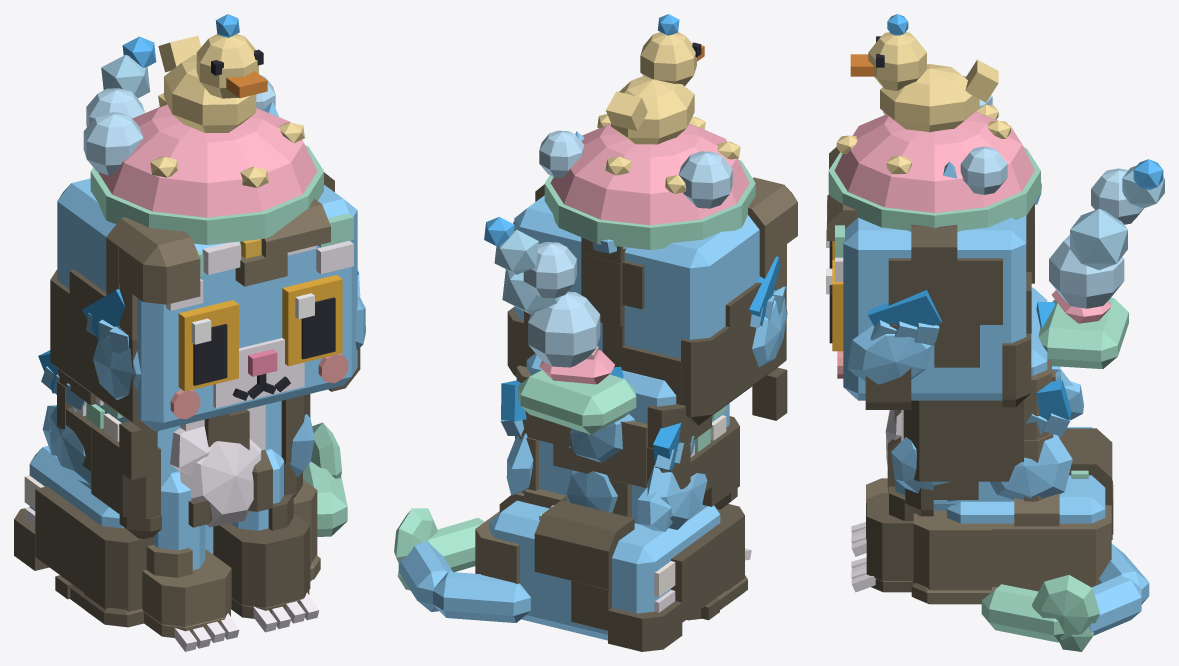
Rendered from CleanACat_Cat_Bathtile_Dirty_Sit.fbx.
3 renders of one model, left to right at view 1: azimuth 30°, elevation 25°; view 2: azimuth 150°, elevation 25°; view 3: azimuth 270°, elevation 25°, orthographic. The views are drawn at different scales.
Parts seen in each view (by area): view 1: CleanACat_Cat_Bathtile_Dirty_Sit_Prop, CleanACat_Cat_Bathtile_Dirty_Sit_Head, CleanACat_Cat_Bathtile_Dirty_Sit_Mud17, CleanACat_Cat_Bathtile_Dirty_Sit_Mud01, CleanACat_Cat_Bathtile_Dirty_Sit_Mud06, CleanACat_Cat_Bathtile_Dirty_Sit_Body, CleanACat_Cat_Bathtile_Dirty_Sit_Mud18, CleanACat_Cat_Bathtile_Dirty_Sit_Mud16, CleanACat_Cat_Bathtile_Dirty_Sit_Fluff04, CleanACat_Cat_Bathtile_Dirty_Sit_Mud10, CleanACat_Cat_Bathtile_Dirty_Sit_Mud14, CleanACat_Cat_Bathtile_Dirty_Sit_Eye2 (+21 smaller); view 2: CleanACat_Cat_Bathtile_Dirty_Sit_Prop, CleanACat_Cat_Bathtile_Dirty_Sit_Body, CleanACat_Cat_Bathtile_Dirty_Sit_Head, CleanACat_Cat_Bathtile_Dirty_Sit_Mud01, CleanACat_Cat_Bathtile_Dirty_Sit_Prop2, CleanACat_Cat_Bathtile_Dirty_Sit_Mud13, CleanACat_Cat_Bathtile_Dirty_Sit_Tail, CleanACat_Cat_Bathtile_Dirty_Sit_Mud14, CleanACat_Cat_Bathtile_Dirty_Sit_Prop2_Glass, CleanACat_Cat_Bathtile_Dirty_Sit_Mud09, CleanACat_Cat_Bathtile_Dirty_Sit_Mud04, CleanACat_Cat_Bathtile_Dirty_Sit_Prop_Glass (+16 smaller); view 3: CleanACat_Cat_Bathtile_Dirty_Sit_Prop, CleanACat_Cat_Bathtile_Dirty_Sit_Head, CleanACat_Cat_Bathtile_Dirty_Sit_Mud02, CleanACat_Cat_Bathtile_Dirty_Sit_Mud08, CleanACat_Cat_Bathtile_Dirty_Sit_Prop2, CleanACat_Cat_Bathtile_Dirty_Sit_Mud12, CleanACat_Cat_Bathtile_Dirty_Sit_Mud15, CleanACat_Cat_Bathtile_Dirty_Sit_Tail, CleanACat_Cat_Bathtile_Dirty_Sit_Body, CleanACat_Cat_Bathtile_Dirty_Sit_Prop2_Glass, CleanACat_Cat_Bathtile_Dirty_Sit_Mud17, CleanACat_Cat_Bathtile_Dirty_Sit_Fluff09 (+14 smaller).
Part boxes in pixels (x1=…): CleanACat_Cat_Bathtile_Dirty_Sit_Prop: x1=90, y1=34, x2=323, y2=244; CleanACat_Cat_Bathtile_Dirty_Sit_Head: x1=57, y1=178, x2=357, y2=431; CleanACat_Cat_Bathtile_Dirty_Sit_Mud17: x1=213, y1=493, x2=310, y2=618; CleanACat_Cat_Bathtile_Dirty_Sit_Mud01: x1=50, y1=269, x2=158, y2=480; CleanACat_Cat_Bathtile_Dirty_Sit_Mud06: x1=106, y1=217, x2=200, y2=339; CleanACat_Cat_Bathtile_Dirty_Sit_Body: x1=24, y1=397, x2=281, y2=554; CleanACat_Cat_Bathtile_Dirty_Sit_Mud18: x1=142, y1=544, x2=231, y2=637; CleanACat_Cat_Bathtile_Dirty_Sit_Mud16: x1=70, y1=522, x2=153, y2=627; CleanACat_Cat_Bathtile_Dirty_Sit_Fluff04: x1=170, y1=426, x2=261, y2=527; CleanACat_Cat_Bathtile_Dirty_Sit_Mud10: x1=66, y1=408, x2=161, y2=538; CleanACat_Cat_Bathtile_Dirty_Sit_Mud14: x1=14, y1=486, x2=96, y2=599; CleanACat_Cat_Bathtile_Dirty_Sit_Eye2: x1=178, y1=300, x2=238, y2=391; CleanACat_Cat_Bathtile_Dirty_Sit_Prop: x1=544, y1=32, x2=755, y2=249; CleanACat_Cat_Bathtile_Dirty_Sit_Body: x1=489, y1=353, x2=729, y2=640; CleanACat_Cat_Bathtile_Dirty_Sit_Head: x1=514, y1=195, x2=759, y2=358; CleanACat_Cat_Bathtile_Dirty_Sit_Mud01: x1=622, y1=282, x2=787, y2=425; CleanACat_Cat_Bathtile_Dirty_Sit_Prop2: x1=494, y1=229, x2=636, y2=434; CleanACat_Cat_Bathtile_Dirty_Sit_Mud13: x1=534, y1=500, x2=634, y2=630; CleanACat_Cat_Bathtile_Dirty_Sit_Tail: x1=398, y1=517, x2=530, y2=622; CleanACat_Cat_Bathtile_Dirty_Sit_Mud14: x1=608, y1=526, x2=726, y2=651; CleanACat_Cat_Bathtile_Dirty_Sit_Prop2_Glass: x1=523, y1=242, x2=600, y2=367; CleanACat_Cat_Bathtile_Dirty_Sit_Mud09: x1=515, y1=365, x2=647, y2=517; CleanACat_Cat_Bathtile_Dirty_Sit_Mud04: x1=581, y1=237, x2=644, y2=369; CleanACat_Cat_Bathtile_Dirty_Sit_Prop_Glass: x1=539, y1=130, x2=732, y2=208; CleanACat_Cat_Bathtile_Dirty_Sit_Prop: x1=828, y1=32, x2=1040, y2=231; CleanACat_Cat_Bathtile_Dirty_Sit_Head: x1=835, y1=216, x2=1026, y2=400; CleanACat_Cat_Bathtile_Dirty_Sit_Mud02: x1=865, y1=224, x2=1002, y2=409; CleanACat_Cat_Bathtile_Dirty_Sit_Mud08: x1=903, y1=400, x2=1023, y2=516; CleanACat_Cat_Bathtile_Dirty_Sit_Prop2: x1=1038, y1=165, x2=1164, y2=368; CleanACat_Cat_Bathtile_Dirty_Sit_Mud12: x1=992, y1=493, x2=1111, y2=591; CleanACat_Cat_Bathtile_Dirty_Sit_Mud15: x1=911, y1=510, x2=997, y2=604; CleanACat_Cat_Bathtile_Dirty_Sit_Tail: x1=981, y1=543, x2=1149, y2=642; CleanACat_Cat_Bathtile_Dirty_Sit_Body: x1=901, y1=287, x2=1105, y2=523; CleanACat_Cat_Bathtile_Dirty_Sit_Prop2_Glass: x1=1049, y1=168, x2=1143, y2=308; CleanACat_Cat_Bathtile_Dirty_Sit_Mud17: x1=866, y1=486, x2=915, y2=592; CleanACat_Cat_Bathtile_Dirty_Sit_Fluff09: x1=1032, y1=575, x2=1100, y2=651.
Bounding box in the file's own units: 1.3 × 2.35 × 1.3.
Materials: 1 (1 with a texture image).
